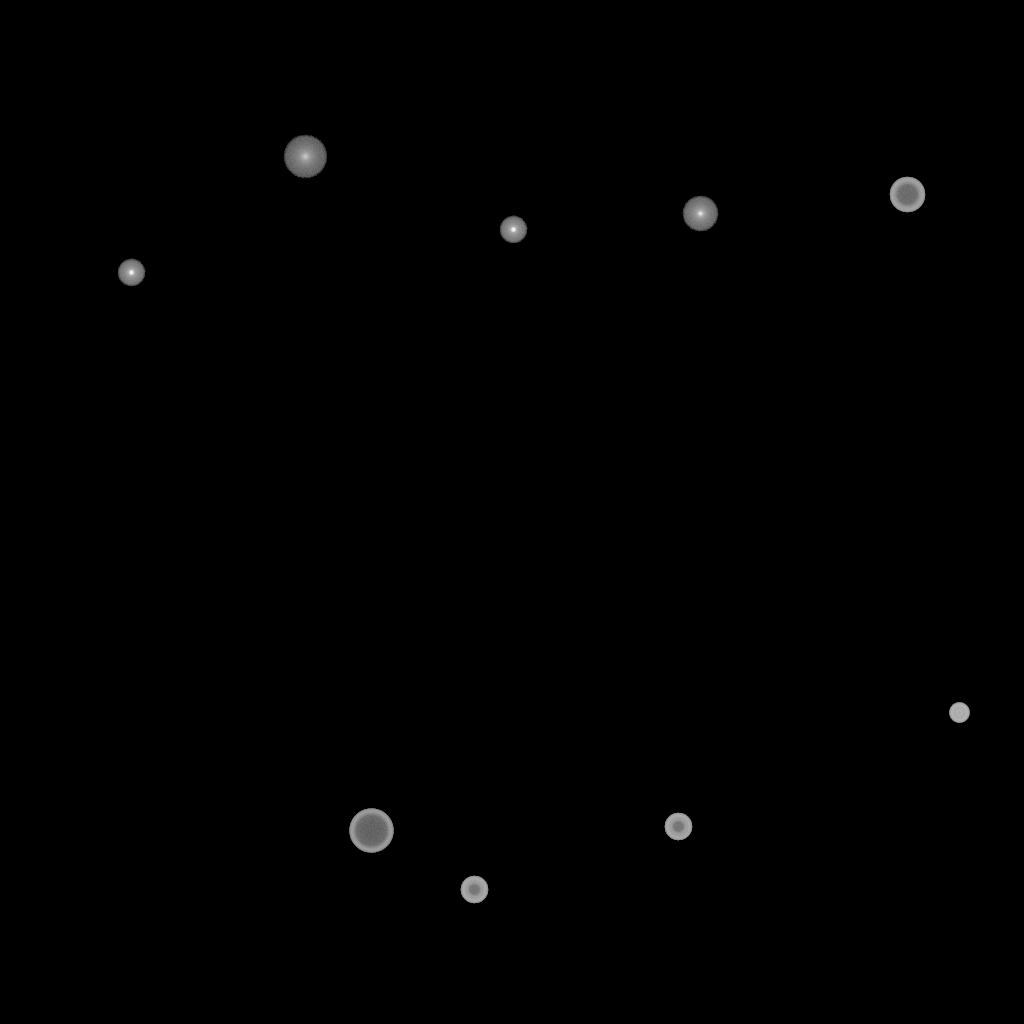depth:-10: (499, 216, 527, 244), (117, 259, 145, 287)
depth:-40: (949, 703, 969, 723)
depth:-50: (664, 813, 692, 841), (460, 876, 488, 904)
depth:-60: (889, 177, 925, 213)
depth:-70: (349, 809, 393, 853)
depth:0: (682, 196, 718, 232)
depth:10: (283, 135, 327, 179)
